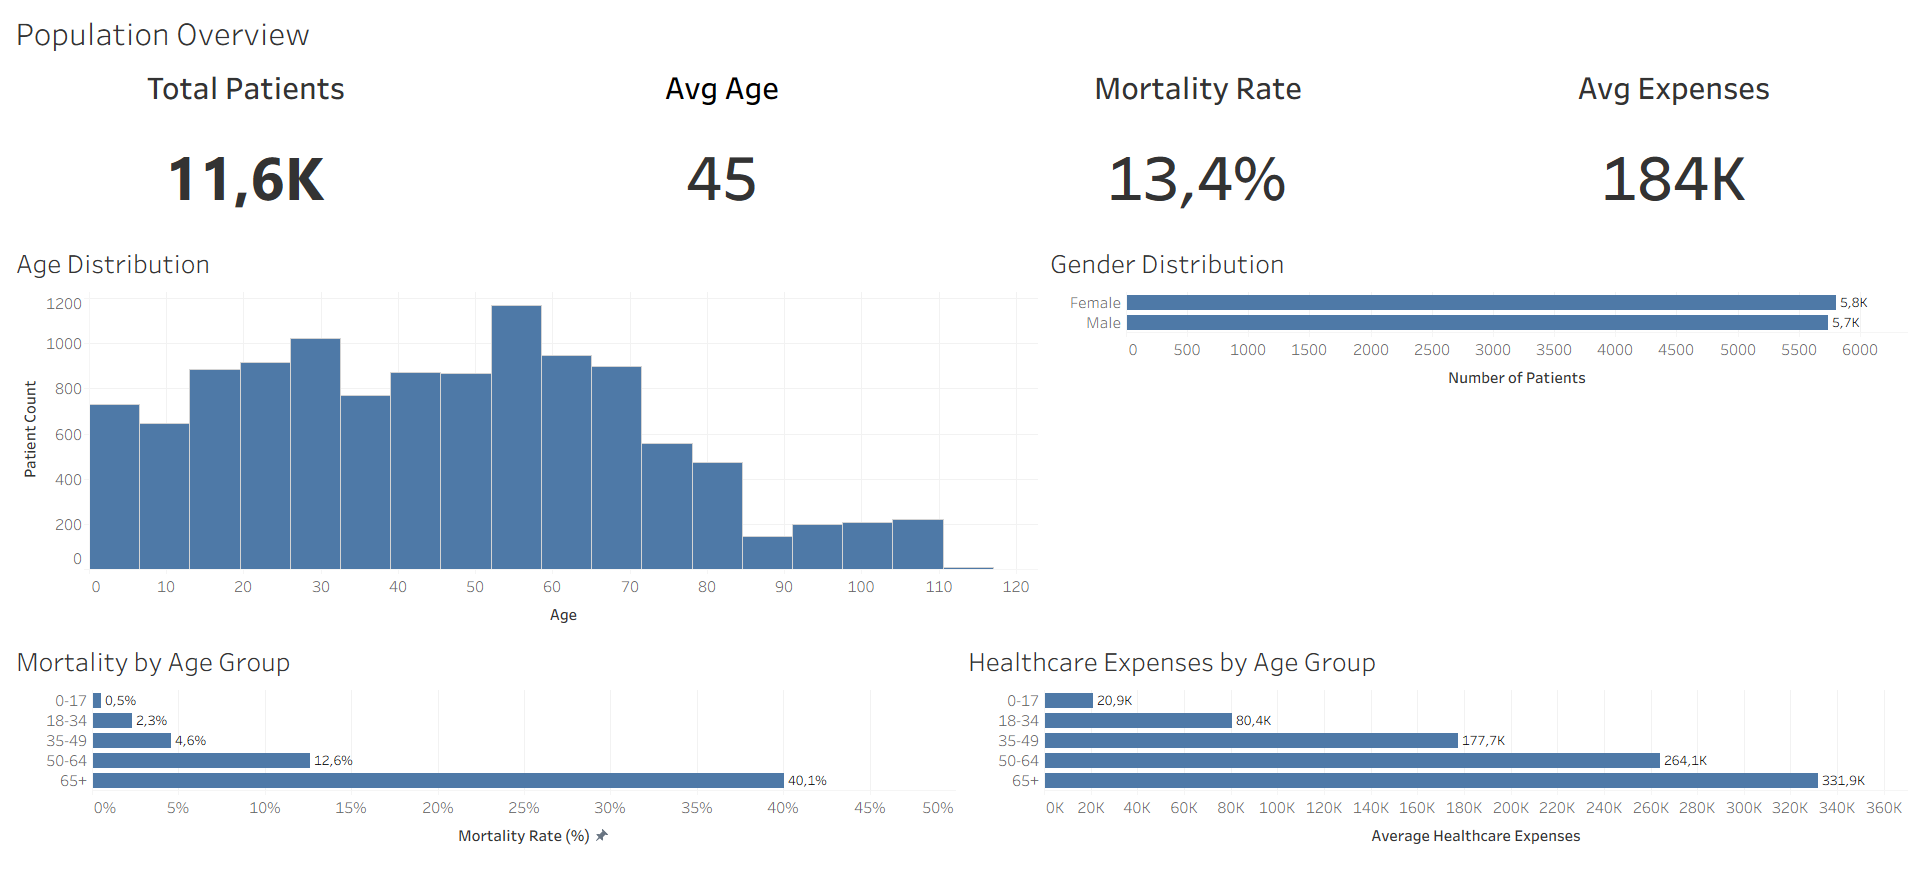

Layout of this report page (visuals, bound fields, positions):
{"tool":"tableau","page":{"name":"Population Overview","canvas":[1000,1000],"units":"permille","ordinal":3},"visuals":[{"type":"title","box":[4.8,9.4,990.3,58.8]},{"type":"worksheet","title":"KPI - Total Patients","mark":"Automatic","box":[4.8,68.2,248,211.5]},{"type":"worksheet","title":"KPI - Average Age","mark":"Automatic","box":[252.9,68.2,247.4,211.5]},{"type":"worksheet","title":"KPI - Mortality Rate","mark":"Automatic","box":[500.3,68.2,247.4,211.5]},{"type":"worksheet","title":"KPI - Average Healthcare Expenses","mark":"Automatic","box":[747.7,68.2,247.4,211.5]},{"type":"worksheet","title":"Age Distribution","mark":"Automatic","rows":["age"],"cols":["age (bin)"],"box":[4.8,279.7,537.8,355.4]},{"type":"worksheet","title":"Gender Distribution","mark":"Bar","rows":["gender"],"cols":["patients_clean.csv_21B87D3D139342FA897D4EBDF16B6170"],"box":[542.6,279.7,452.5,355.4]},{"type":"worksheet","title":"Mortality by Age Group","mark":"Automatic","rows":["Calculation_1426929256345600"],"cols":["Calculation_1426929256763393"],"box":[4.8,635,495.2,355.6]},{"type":"worksheet","title":"Healthcare Expenses by Age Group","mark":"Automatic","rows":["Calculation_1426929256345600"],"cols":["healthcare_expenses"],"box":[500,635,495.2,355.6]}]}

Visuals, with their boxes on the dashboard's canvas, which has no fixed pixel size, in thousandths of its width and height (x1, y1, x2, y2). These are canvas units, not pixel positions in the 1919x870 screenshot, which may show the page scaled, cropped or inside an application window:
title: 5 9 995 68
"KPI - Total Patients" worksheet: 5 68 253 280
"KPI - Average Age" worksheet: 253 68 500 280
"KPI - Mortality Rate" worksheet: 500 68 748 280
"KPI - Average Healthcare Expenses" worksheet: 748 68 995 280
"Age Distribution" worksheet: 5 280 543 635
"Gender Distribution" worksheet (Bar marks): 543 280 995 635
"Mortality by Age Group" worksheet: 5 635 500 991
"Healthcare Expenses by Age Group" worksheet: 500 635 995 991
